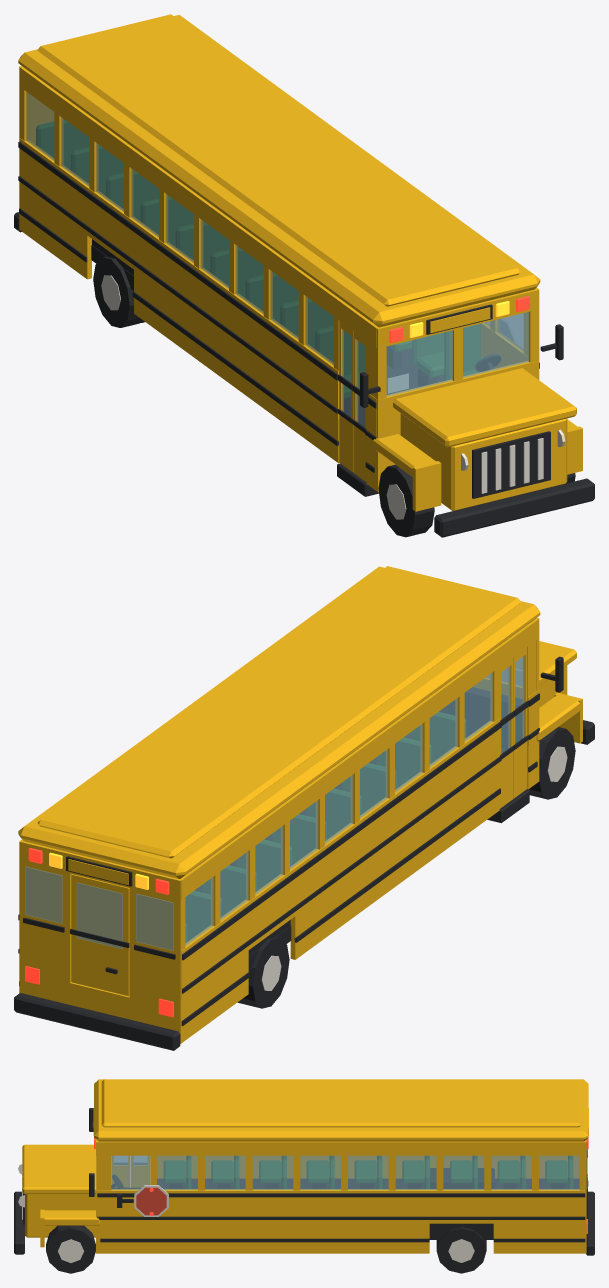
File: yellow-school-bus.glb
The picture shows the model from 3 angles, top to bottom: view 1: azimuth 30°, elevation 25°; view 2: azimuth 150°, elevation 25°; view 3: azimuth 270°, elevation 25°; orthographic projection. The views are drawn at different scales.
Visible parts, largest first — view 1: SchoolBus, Hood, Wheel_FR, Wheel_RR_Outer, Door_Leaf2, Door, Seat_L1, DriverSeat, Seat_R6, Seat_R2, Seat_R7, Seat_R4 (+5 smaller); view 2: SchoolBus, RearDoor, Wheel_RR_Outer, Wheel_FR, Door, Door_Leaf2, Seat_R4, Seat_R3, Seat_R7, Seat_R5, Seat_R6, Seat_R2 (+3 smaller); view 3: SchoolBus, Hood, Wheel_FL, Wheel_RL_Outer, StopArm, Seat_R2, Seat_R9, Seat_R4, Seat_R8, Seat_R7, Seat_R3, Seat_R6 (+4 smaller).
Boxes of the visible parts, bbox=[...] form: SchoolBus: bbox=[14, 14, 594, 537]; Hood: bbox=[393, 368, 576, 447]; Wheel_FR: bbox=[378, 464, 434, 537]; Wheel_RR_Outer: bbox=[93, 256, 142, 327]; Door_Leaf2: bbox=[338, 321, 353, 471]; Door: bbox=[352, 331, 366, 482]; Seat_L1: bbox=[412, 333, 482, 386]; DriverSeat: bbox=[444, 324, 480, 380]; Seat_R6: bbox=[141, 196, 193, 246]; Seat_R2: bbox=[280, 298, 333, 348]; Seat_R7: bbox=[106, 170, 158, 220]; Seat_R4: bbox=[211, 247, 263, 297]; SchoolBus: bbox=[14, 566, 594, 1050]; RearDoor: bbox=[70, 874, 129, 996]; Wheel_RR_Outer: bbox=[240, 937, 289, 1008]; Wheel_FR: bbox=[526, 727, 575, 799]; Door: bbox=[513, 647, 528, 798]; Door_Leaf2: bbox=[499, 657, 514, 808]; Seat_R4: bbox=[307, 789, 361, 839]; Seat_R3: bbox=[342, 763, 396, 813]; Seat_R7: bbox=[203, 865, 256, 916]; Seat_R5: bbox=[273, 814, 326, 864]; Seat_R6: bbox=[238, 840, 291, 890]; Seat_R2: bbox=[377, 737, 431, 787]; SchoolBus: bbox=[14, 1079, 594, 1255]; Hood: bbox=[22, 1144, 95, 1193]; Wheel_FL: bbox=[46, 1225, 95, 1273]; Wheel_RL_Outer: bbox=[436, 1227, 486, 1273]; StopArm: bbox=[117, 1185, 168, 1216]; Seat_R2: bbox=[211, 1156, 238, 1188]; Seat_R9: bbox=[545, 1156, 572, 1188]; Seat_R4: bbox=[307, 1156, 334, 1188]; Seat_R8: bbox=[498, 1156, 525, 1188]; Seat_R7: bbox=[450, 1156, 477, 1188]; Seat_R3: bbox=[259, 1156, 286, 1188]; Seat_R6: bbox=[402, 1156, 429, 1188].
Size of the model in its own units: 11.4 by 11.6 by 41.8.
